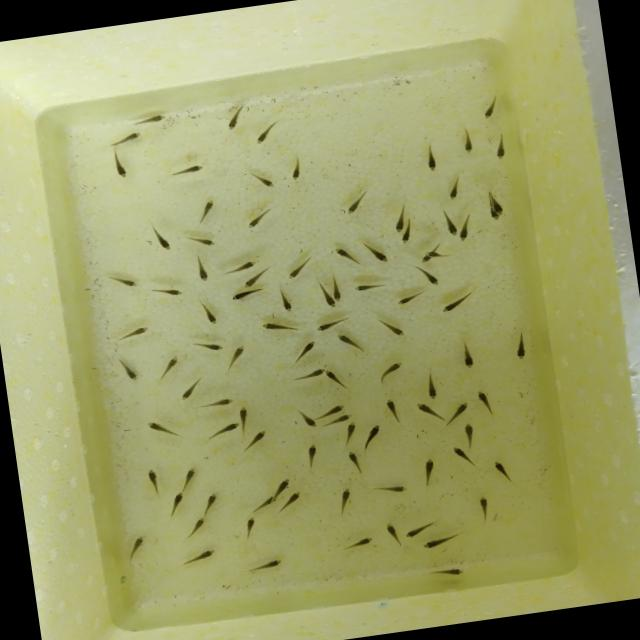fingerling: (414, 528, 464, 552), (375, 314, 408, 342), (355, 424, 384, 454), (146, 418, 182, 442), (115, 353, 142, 385), (508, 326, 531, 362), (490, 458, 519, 486), (124, 533, 151, 563), (243, 558, 288, 576), (336, 332, 367, 358), (222, 103, 248, 134), (250, 166, 278, 194), (439, 293, 473, 316), (186, 546, 223, 567), (342, 190, 370, 217), (404, 520, 440, 541), (442, 401, 471, 427), (472, 390, 497, 420), (252, 119, 280, 145), (452, 443, 480, 469), (177, 464, 202, 493), (334, 246, 364, 270), (266, 474, 302, 494), (158, 352, 185, 378), (177, 376, 204, 402), (417, 262, 442, 290), (197, 490, 222, 518), (260, 317, 294, 337), (286, 258, 313, 282), (417, 402, 444, 426), (458, 338, 477, 372), (210, 420, 242, 440), (362, 242, 388, 266), (245, 431, 272, 454), (376, 362, 404, 384), (340, 418, 362, 446), (353, 278, 391, 294), (324, 368, 348, 393), (112, 272, 142, 292), (109, 152, 129, 182), (240, 270, 270, 290), (114, 128, 144, 148), (454, 218, 474, 248), (492, 130, 512, 160), (245, 208, 272, 230), (166, 491, 188, 518), (231, 288, 268, 304), (249, 496, 281, 514), (150, 228, 172, 254), (428, 565, 466, 580), (474, 492, 493, 522), (420, 456, 440, 484), (385, 521, 405, 549), (478, 98, 501, 122), (293, 341, 318, 363), (174, 162, 208, 178), (185, 232, 215, 250), (142, 467, 162, 494), (458, 421, 478, 448), (385, 396, 404, 424), (226, 345, 248, 369), (188, 514, 210, 538), (340, 536, 372, 552), (135, 112, 171, 126), (443, 175, 462, 201), (286, 158, 304, 185), (396, 290, 426, 306), (378, 482, 410, 497), (228, 258, 258, 274), (240, 514, 260, 538), (336, 485, 354, 511), (300, 366, 331, 381), (422, 143, 438, 172), (346, 450, 365, 474), (201, 300, 219, 325), (458, 126, 474, 154), (198, 198, 216, 222), (490, 188, 505, 216), (299, 411, 319, 432), (315, 317, 341, 333), (278, 287, 294, 313), (236, 406, 252, 432), (423, 374, 439, 400), (319, 285, 336, 309), (391, 212, 408, 236), (304, 444, 320, 468), (196, 342, 223, 356), (155, 286, 184, 299), (326, 413, 354, 426), (122, 326, 150, 339), (444, 212, 458, 238), (330, 276, 342, 304), (282, 491, 303, 506), (198, 258, 210, 284), (207, 398, 235, 408), (400, 227, 414, 246), (326, 402, 346, 414), (426, 248, 443, 260)
